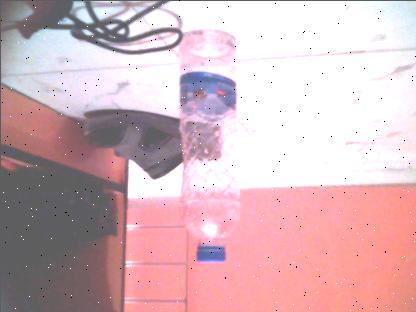Plastic Bottle: (178, 28, 240, 262)
